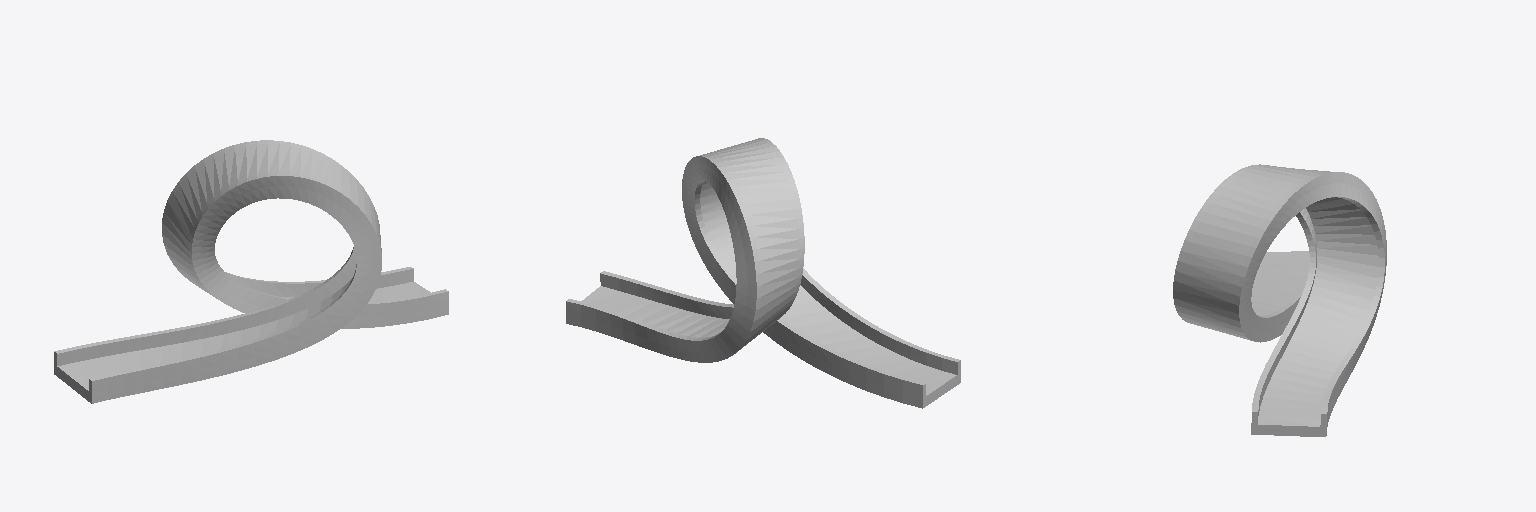
Rendered from loopmesh.obj.
The picture shows the model from 3 angles: view 1: azimuth 30°, elevation 25°; view 2: azimuth 150°, elevation 25°; view 3: azimuth 270°, elevation 25°; orthographic projection.
Visible parts, largest first — view 1: NurbsPath; view 2: NurbsPath; view 3: NurbsPath.
Part boxes in pixels (bbox=[...]): NurbsPath: bbox=[54, 140, 448, 403]; NurbsPath: bbox=[566, 138, 960, 408]; NurbsPath: bbox=[1173, 164, 1386, 436].
Bounding box in the file's own units: 10.28 × 5.19 × 5.34.